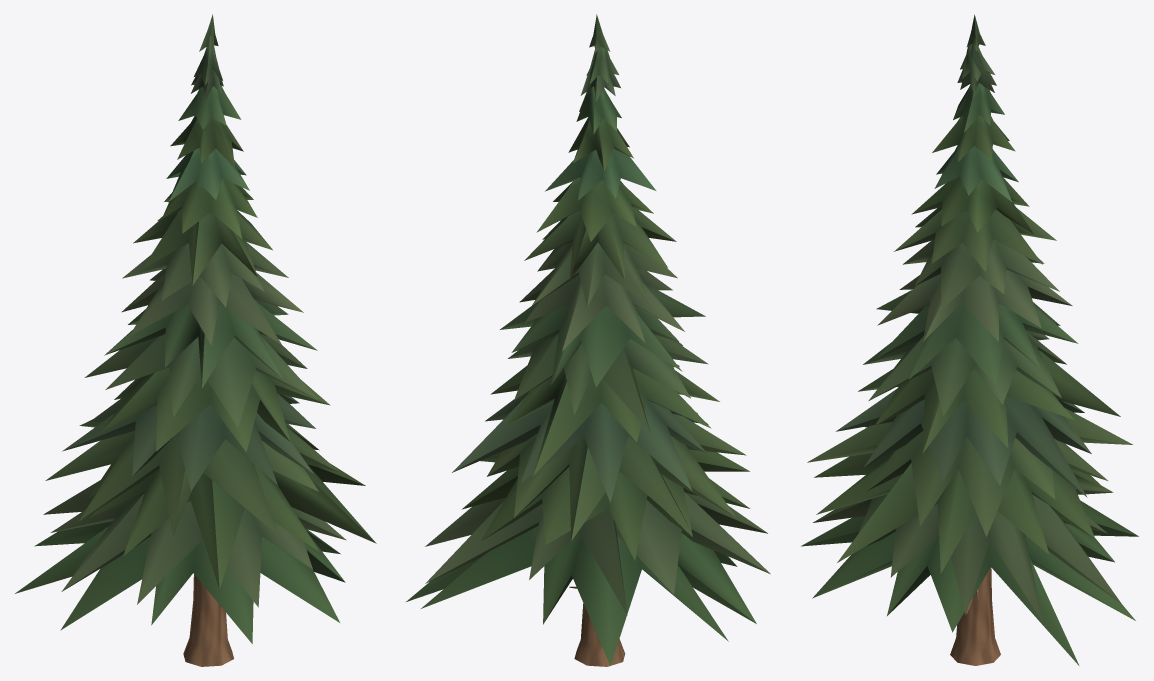
The model's file is pine.glb.
The picture shows the model from 3 angles, left to right: view 1: azimuth 30°, elevation 25°; view 2: azimuth 150°, elevation 25°; view 3: azimuth 270°, elevation 25°; orthographic projection.
Parts seen in each view (by area): view 1: foliage, trunk; view 2: foliage, trunk; view 3: foliage, trunk.
Boxes of the visible parts, x1,y1,x2,y2 form: foliage: (15, 14, 376, 643); trunk: (183, 574, 233, 666); foliage: (406, 14, 770, 665); trunk: (569, 586, 625, 666); foliage: (801, 14, 1138, 665); trunk: (950, 567, 1000, 665).
Bounding box in the file's own units: 5.24 × 10.55 × 5.05.
2 materials, 1 textured.
